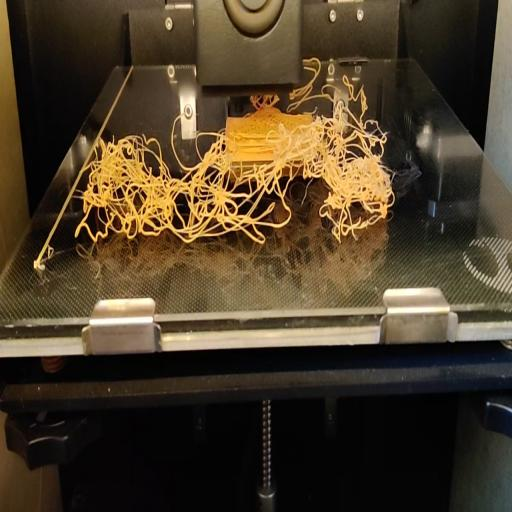spaghetti: (79, 114, 397, 247), (248, 90, 368, 112), (304, 54, 324, 87)
